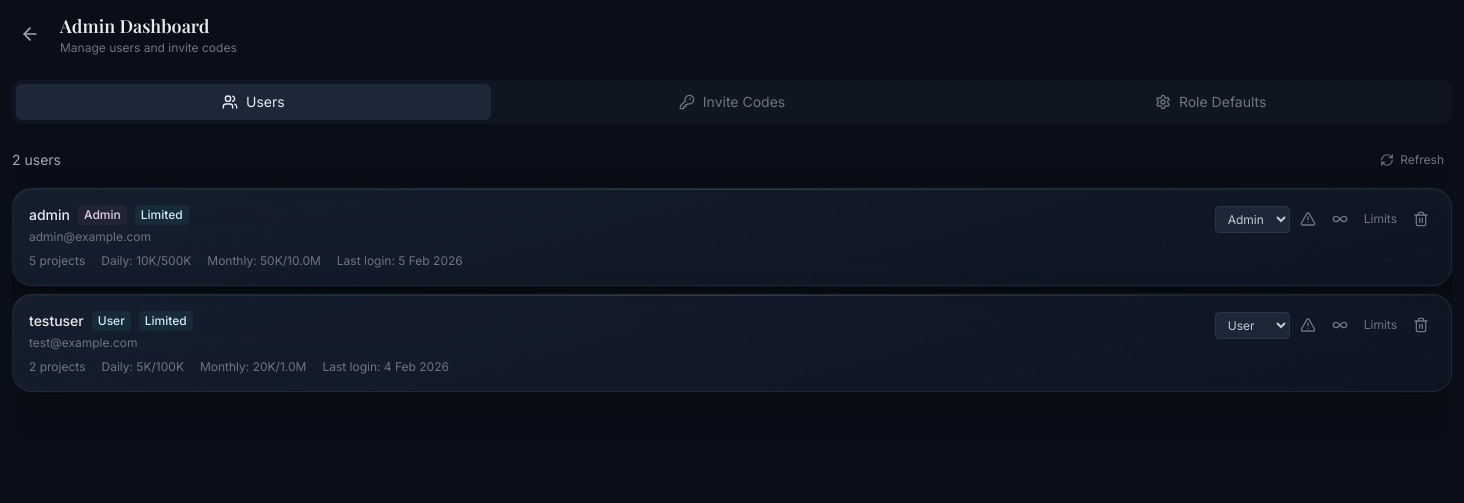
it: AdminDashboard › shows delete confirmation when delete button clicked
Note: Find the delete button for testuser (second user)
What coordinates should you click on to do the following:
click the button titled "Delete user"
I would click on:
 (1421, 325)
Its box is [1407,311,1435,339].
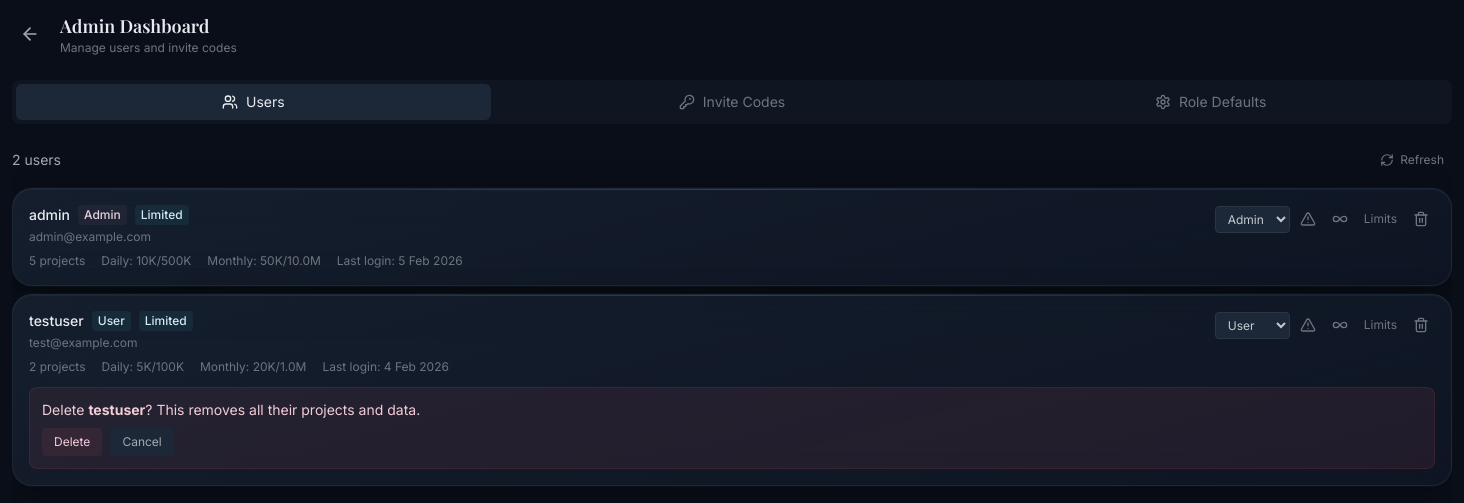
Expected: the text "Delete testuser? This removes all their projects and data." is shown, [42,401,420,418]
Expected: the text "This removes all their projects" shows "testuser", [88,401,145,418]
